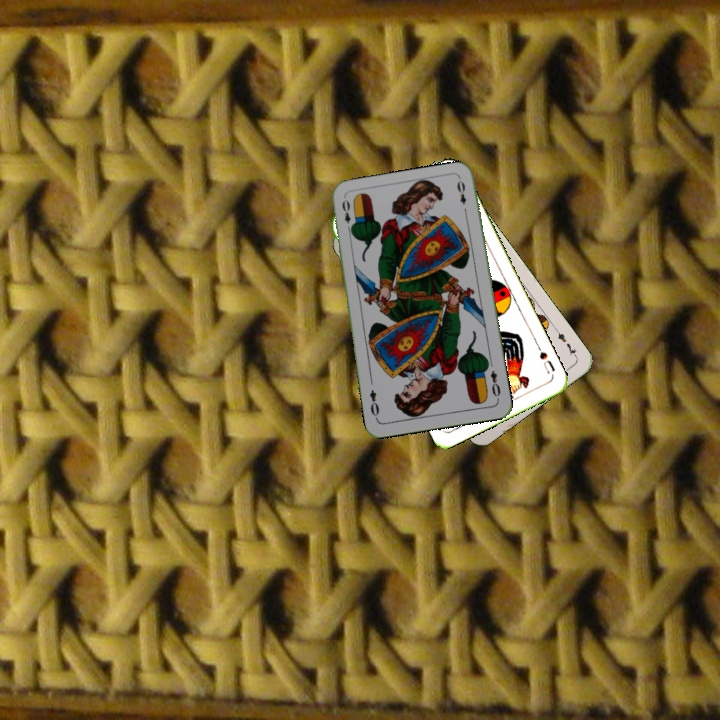E7: (551, 325, 580, 360)
EO: (338, 195, 356, 235), (486, 367, 503, 402)
SU: (533, 341, 557, 377)
